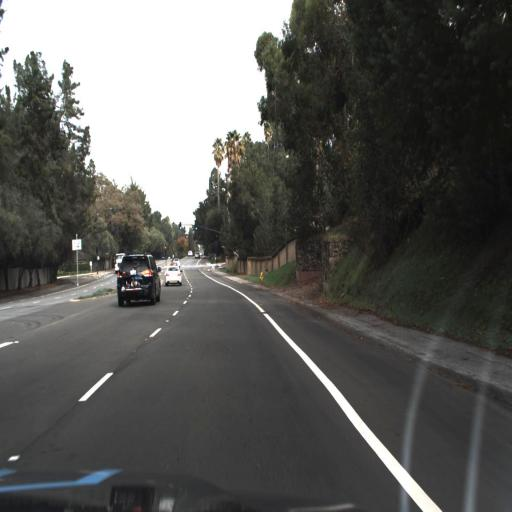car: (118, 252, 160, 306), (163, 260, 183, 288)
trafficLight-Green: (193, 217, 200, 237), (176, 216, 182, 235)
trafficLight-Red: (162, 241, 168, 254)
truck: (112, 249, 127, 276)
